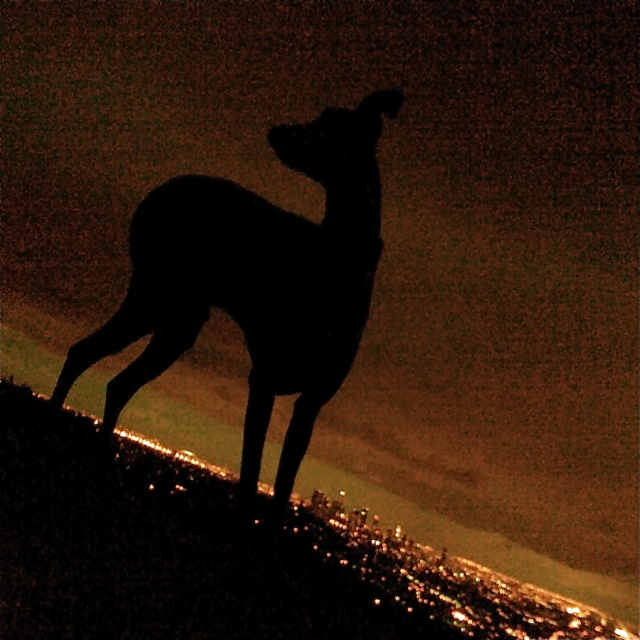Deer: (46, 80, 399, 531)
